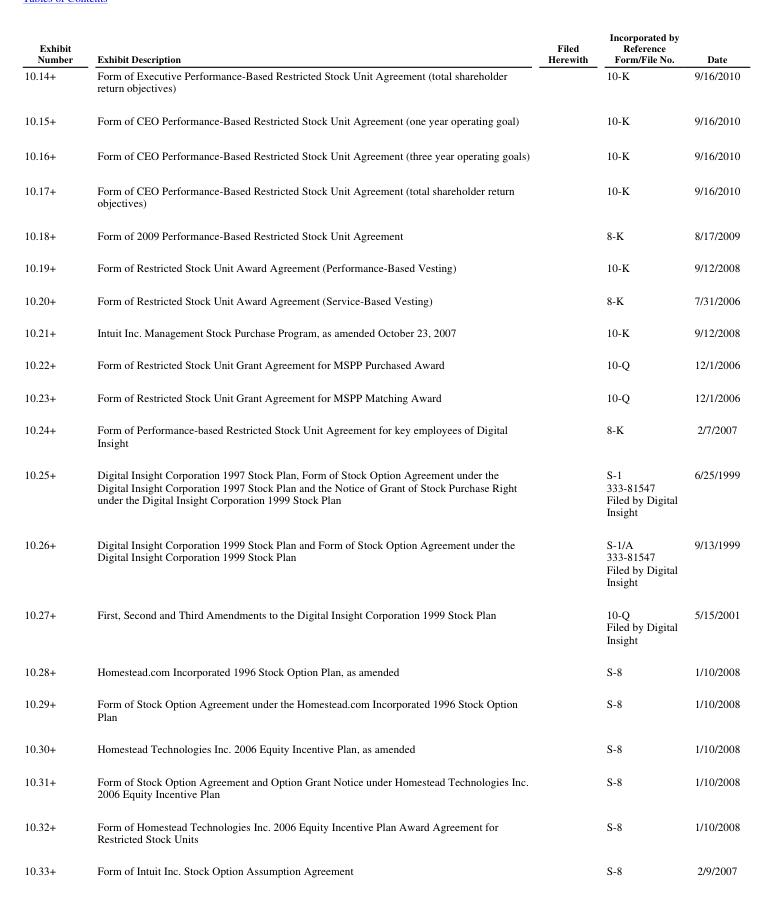table: (23, 29, 739, 877)
table column: (84, 29, 538, 877), (596, 29, 686, 877), (23, 29, 84, 877), (538, 29, 596, 877), (686, 29, 739, 877)
table column header: (23, 29, 739, 66)
table row: (23, 457, 739, 527), (23, 527, 739, 597), (23, 597, 739, 654), (23, 171, 739, 218), (23, 412, 739, 457), (23, 686, 739, 731), (23, 764, 739, 809), (23, 809, 739, 853), (23, 29, 739, 66), (23, 66, 739, 102), (23, 136, 739, 171), (23, 102, 739, 136), (23, 250, 739, 283), (23, 347, 739, 380), (23, 731, 739, 764), (23, 218, 739, 250), (23, 283, 739, 315), (23, 315, 739, 347), (23, 380, 739, 412), (23, 654, 739, 686), (23, 853, 739, 877)
